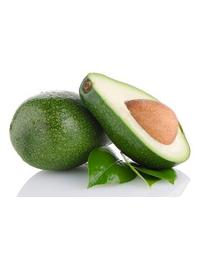avocado: (79, 73, 191, 170), (8, 90, 137, 172)
